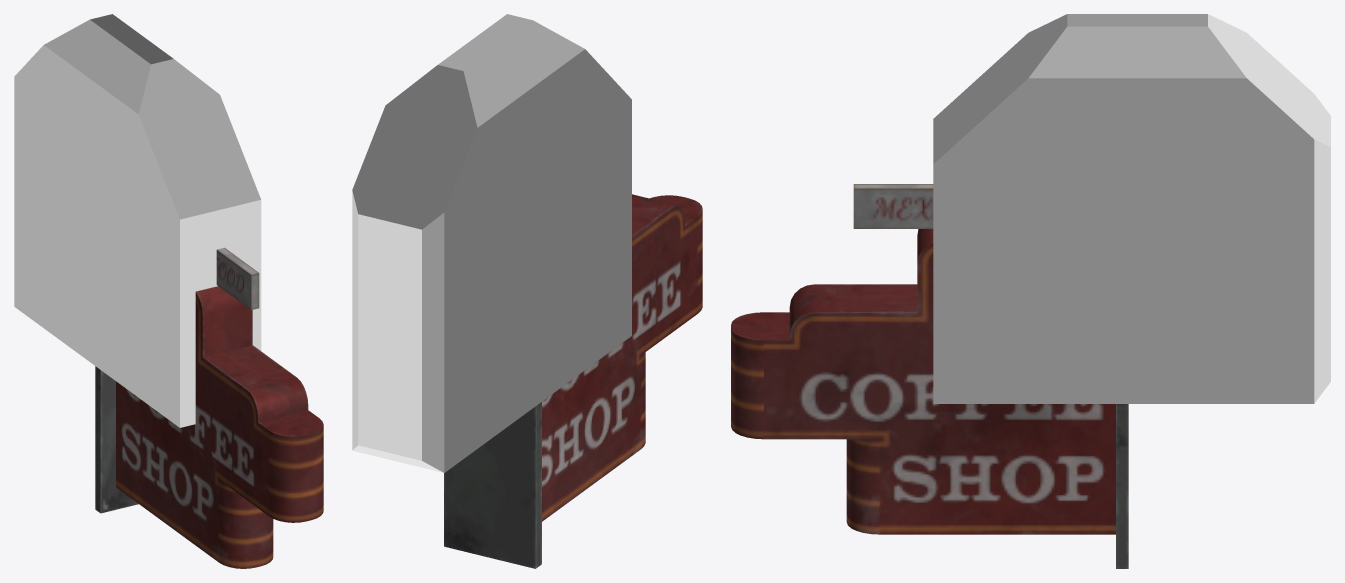
File: SM_Billboard_20.fbx
3 renders of one model, left to right at view 1: azimuth 30°, elevation 25°; view 2: azimuth 150°, elevation 25°; view 3: azimuth 270°, elevation 25°, orthographic. The views are drawn at different scales.
Visible parts, largest first — view 1: SM_Billboard_20_ConvexHulls, SM_Billboard_20_LOD0; view 2: SM_Billboard_20_ConvexHulls, SM_Billboard_20_LOD0; view 3: SM_Billboard_20_ConvexHulls, SM_Billboard_20_LOD0.
Part boxes in pixels (box(x1,y1,x2,y2)): SM_Billboard_20_ConvexHulls: box(14, 14, 261, 427); SM_Billboard_20_LOD0: box(95, 247, 323, 568); SM_Billboard_20_ConvexHulls: box(352, 14, 631, 472); SM_Billboard_20_LOD0: box(444, 194, 702, 568); SM_Billboard_20_ConvexHulls: box(933, 14, 1330, 403); SM_Billboard_20_LOD0: box(731, 184, 1128, 568).
Bounding box in the file's own units: 66.9 × 372 × 360.
